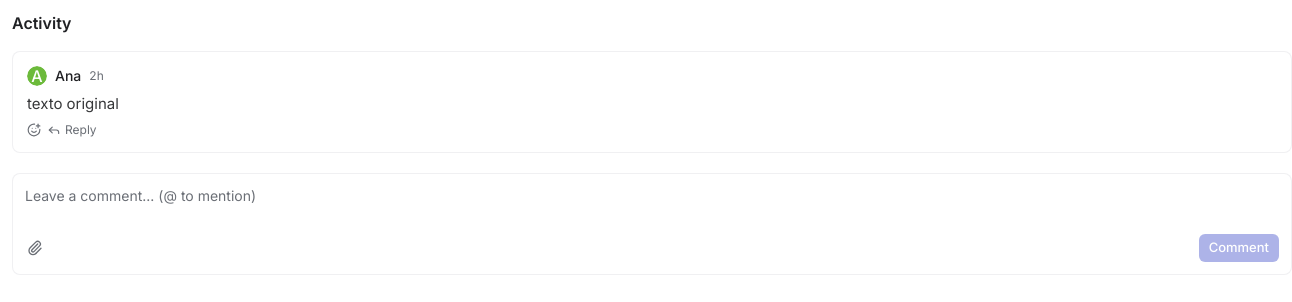
Test: #27 ações de comentário otimistas › falha da reação desfaz o otimista e avisa
The width and height of the screenshot is (1292, 302).
Click the button named "Add reaction".
click(34, 130)  # box [27,123,41,137]
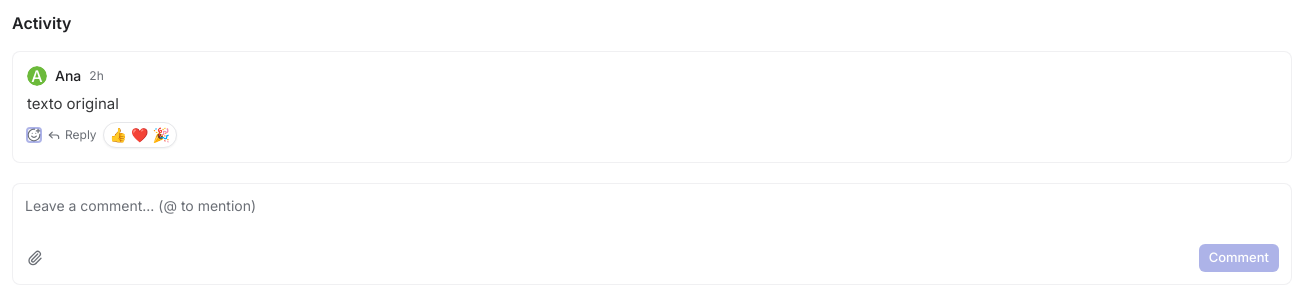
Click the button "👍".
click(118, 135)  # box [110,125,127,145]
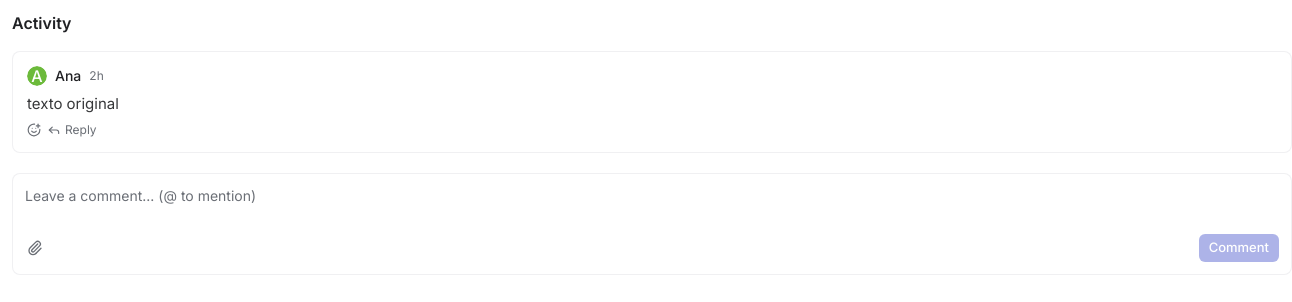
Expected: the button "👍" is gone
